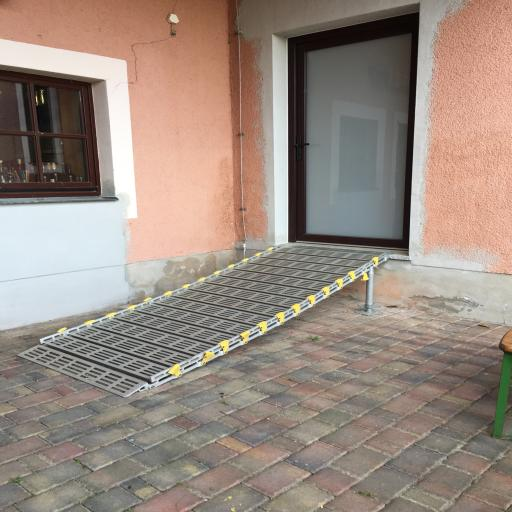ramp: (16, 252, 370, 402)
